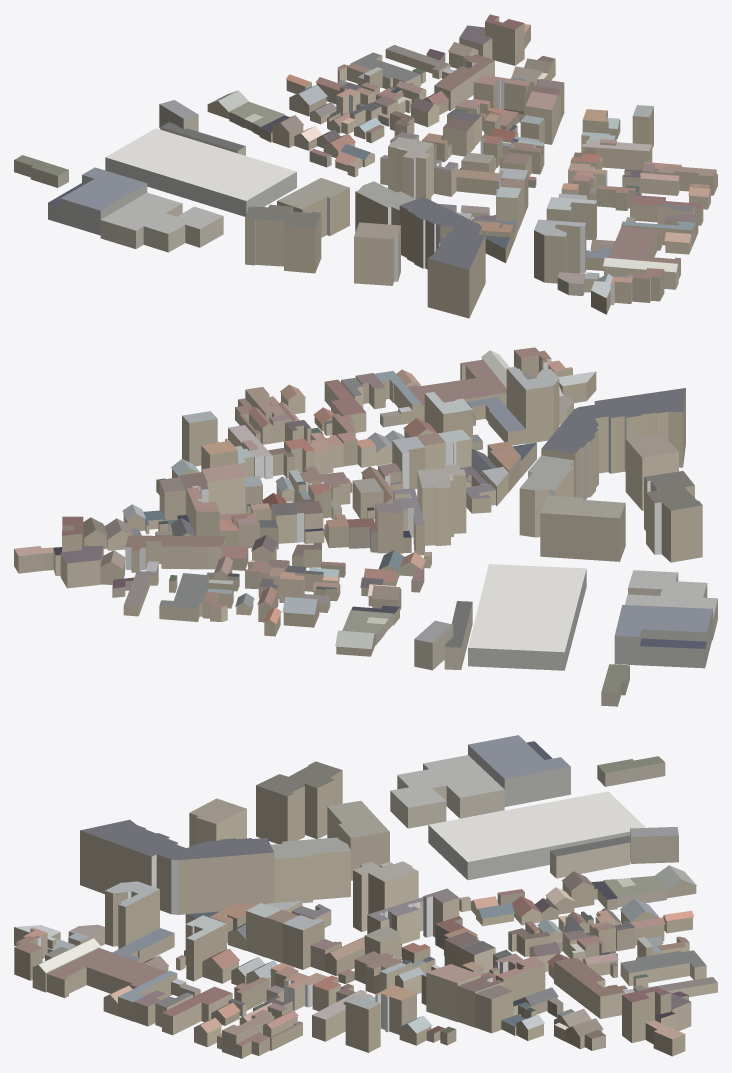
The picture shows the model from 3 angles, top to bottom: view 1: azimuth 30°, elevation 25°; view 2: azimuth 150°, elevation 25°; view 3: azimuth 270°, elevation 25°; orthographic projection. The views are drawn at different scales.
Parts seen in each view (by area): view 1: tuile; view 2: tuile; view 3: tuile.
Boxes of the visible parts, x1,y1,x2,y2 form: tuile: (14,14,717,318); tuile: (14,347,717,706); tuile: (14,735,717,1058).
Size of the model in its own units: 269 by 25.4 by 268.
